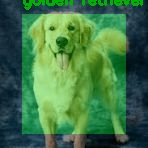golden retriever: (22, 15, 126, 133)
